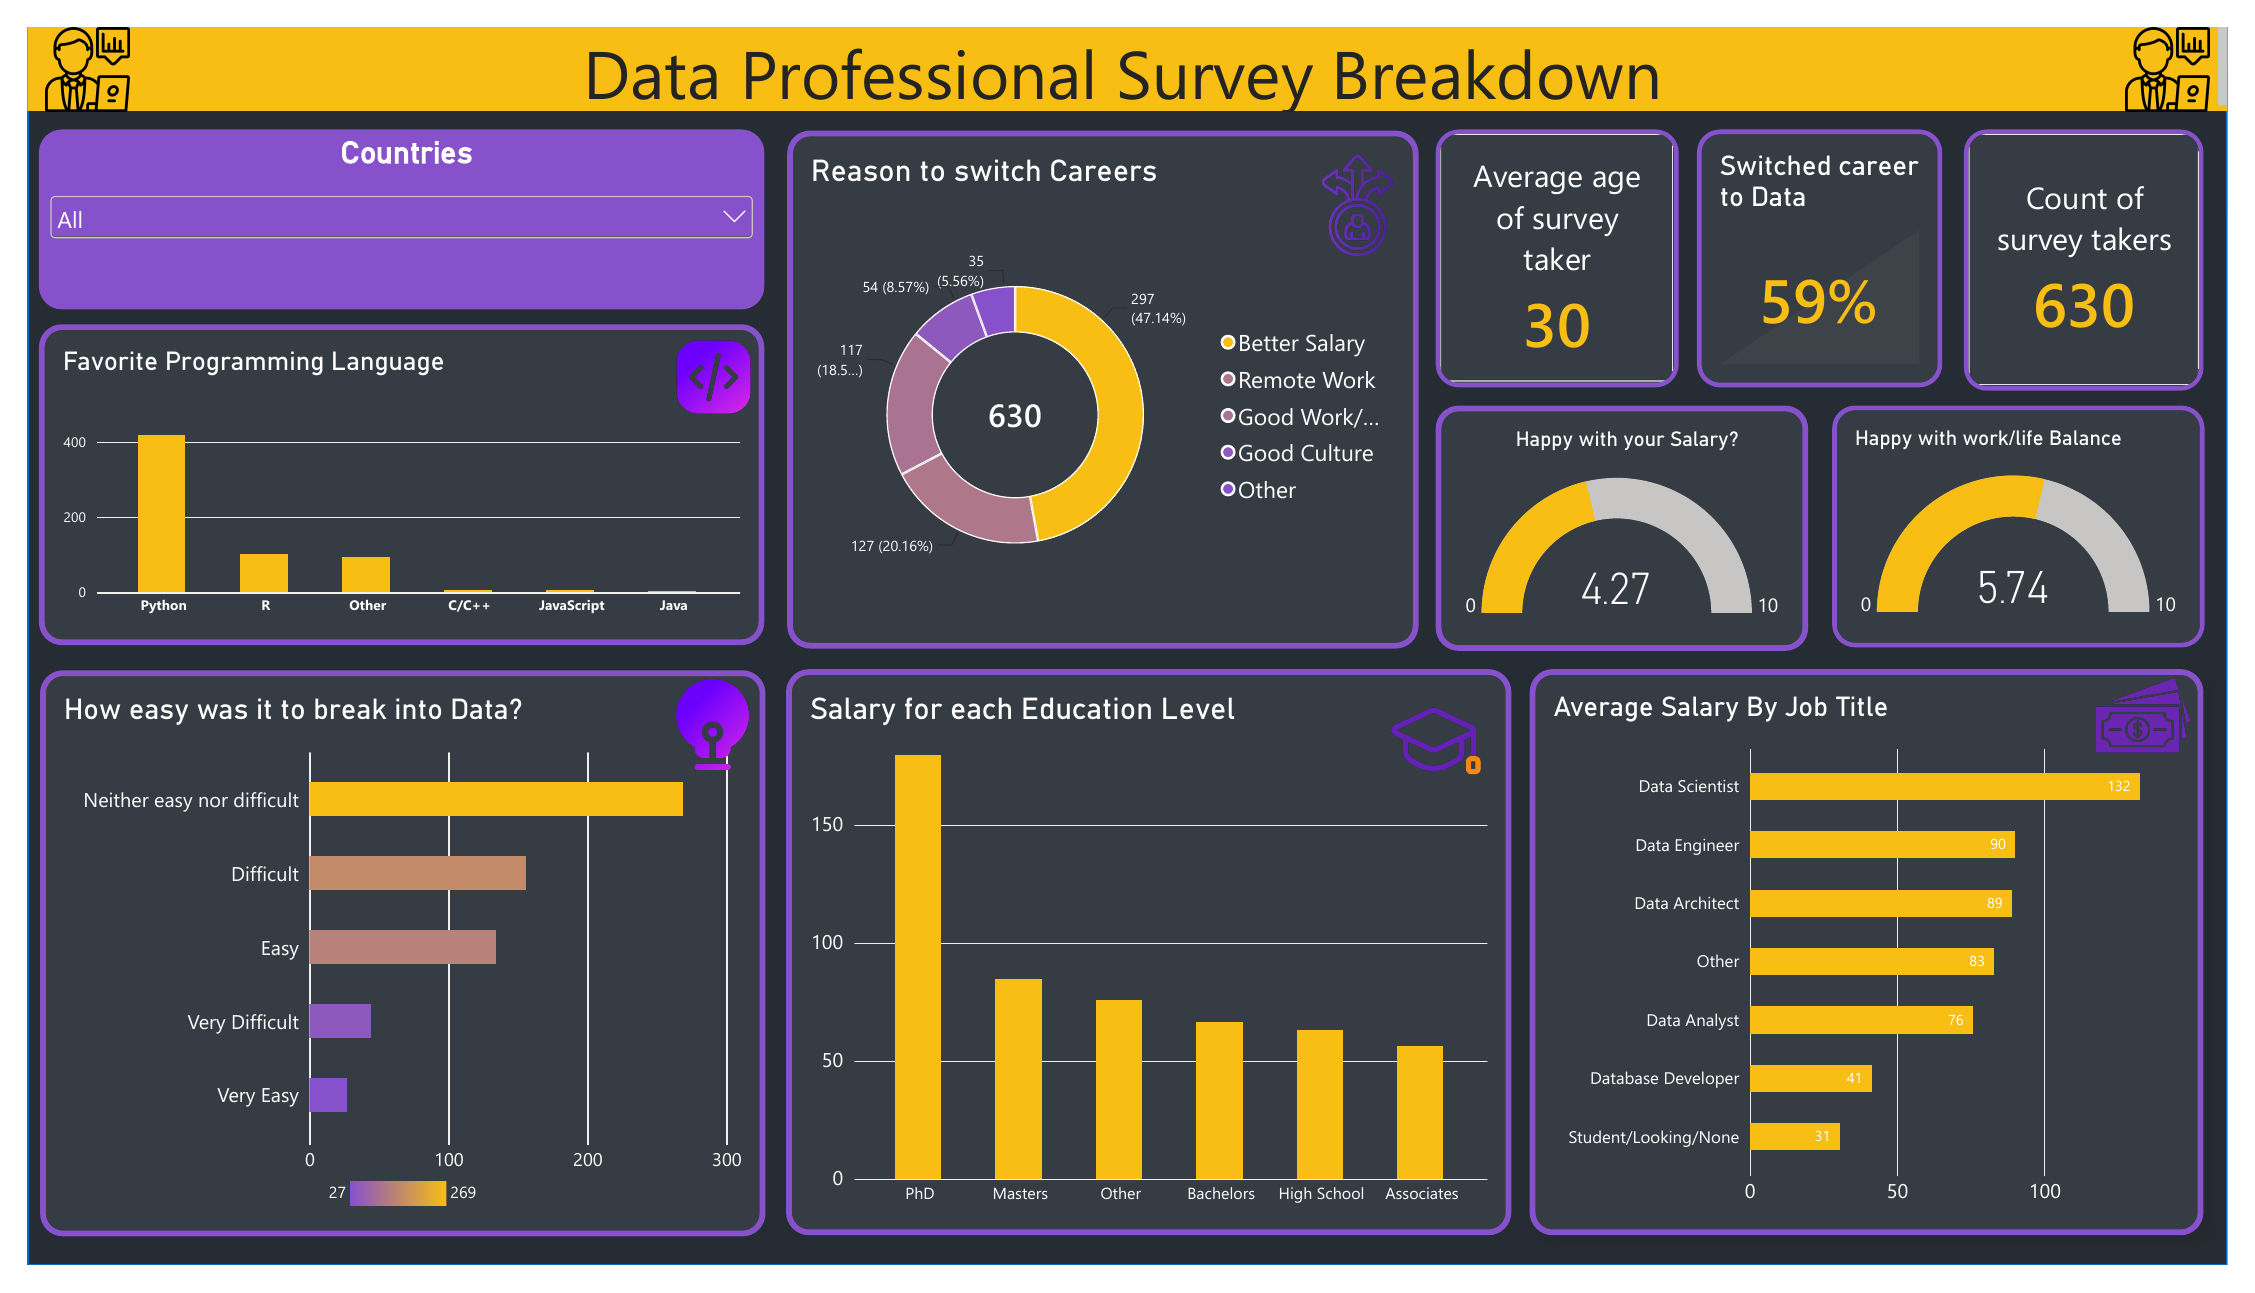

The page's visual inventory and layout, read from the dashboard file:
{"tool":"powerbi","page":{"name":"Page 1","canvas":[1920,1080],"ordinal":0},"visuals":[{"type":"shape","box":[0,0,1920,1080],"z":0},{"type":"textbox","box":[0,0,1920,73.2],"z":1000},{"type":"cardVisual","fields":{"Data":["Count(Data Professional Survey.Unique ID)"]},"box":[1689.8,88.9,209.3,227.6],"z":2000},{"type":"kpi","title":"Switched career to Data","fields":{"Indicator":["Count(Data Professional Survey.Unique ID)"],"TrendLine":["Data Professional Survey.Q2 - Did you switch careers into Data?"]},"box":[1457,88.9,214.5,225],"z":3000},{"type":"clusteredBarChart","title":"Average Salary By Job Title","fields":{"Category":["Data Professional Survey.Q1 - Which Title Best Fits your Current Role?.1"],"Y":["Avg(Data Professional Survey.Average Salary)"]},"box":[1310.5,559.8,588.6,494.4],"z":4000},{"type":"columnChart","title":"Favorite Programming Language","fields":{"Category":["Data Professional Survey.Q5 - Favorite Programming Language.1"],"Y":["CountNonNull(Data Professional Survey.Unique ID)"]},"box":[10.5,259,633,280],"z":5000},{"type":"gauge","title":"Happy with work/life Balance","fields":{"MaxValue":["Max(Data Professional Survey.Q6 - How Happy are you in your Current Position with the following? (Work/Life Balance))2"],"MinValue":["Min(Data Professional Survey.Q6 - How Happy are you in your Current Position with the following? (Work/Life Balance))1"],"Y":["Avg(Data Professional Survey.Q6 - How Happy are you in your Current Position with the following? (Work/Life Balance))"]},"box":[1574.7,329.6,325,211.9],"z":6000},{"type":"gauge","title":"Happy with your Salary?","fields":{"MaxValue":["Max(Data Professional Survey.Q6 - How Happy are you in your Current Position with the following? (Salary))"],"MinValue":["Min(Data Professional Survey.Q6 - How Happy are you in your Current Position with the following? (Salary))"],"Y":["Avg(Data Professional Survey.Q6 - How Happy are you in your Current Position with the following? (Salary))"]},"box":[1229.4,329.6,325,214.5],"z":7000},{"type":"clusteredBarChart","title":"How easy was it to break into Data?","fields":{"Category":["Data Professional Survey.Q7 - How difficult was it for you to break into Data?"],"Y":["CountNonNull(Data Professional Survey.Unique ID)"]},"box":[10.9,560.7,633,494.4],"z":8000},{"type":"slicer","title":"  Countries","fields":{"Values":["Data Professional Survey.Q11 - Which Country do you live in?.1"]},"box":[10.5,88.9,633,156.9],"z":9000},{"type":"columnChart","title":"Salary for each Education Level","fields":{"Category":["Data Professional Survey.Q12 - Highest Level of Education"],"Y":["Avg(Data Professional Survey.Average Salary)"]},"box":[661.8,559.8,633,494.4],"z":10000},{"type":"cardVisual","fields":{"Data":["Avg(Data Professional Survey.Q10 - Current Age)"]},"box":[1229.4,88.9,211.9,225],"z":11000},{"type":"donutChart","title":"Reason to switch Careers","fields":{"Category":["Data Professional Survey.Q8 - If you were to look for a new job today, what would be the most important t"],"Y":["Count(Data Professional Survey.Unique ID)"]},"box":[662.9,90,551,452.2],"z":12000},{"type":"image","box":[1815.4,0,104.6,73.2],"z":13000},{"type":"image","box":[1177.1,580.7,105.4,83.4],"z":14000},{"type":"image","box":[0,0,104.6,73.2],"z":15000},{"type":"image","box":[1106.5,112.5,107.2,86.3],"z":16000},{"type":"image","box":[551.9,566,91.6,83.7],"z":17000},{"type":"image","box":[1794.4,559.8,104.7,80.7],"z":18000},{"type":"image","box":[565,259,68,91.6],"z":19000}]}

Visuals, with their boxes in screenshot pixels (x1, y1, x2, y2), scaled from the page's 1920x1080 canvas onto the 2255x1293 screenshot:
shape: locate(0, 0, 2254, 1292)
textbox: locate(0, 0, 2254, 88)
cardVisual - Count(Data Professional Survey.Unique ID): locate(1985, 106, 2230, 379)
"Switched career to Data" kpi: locate(1711, 106, 1963, 376)
"Average Salary By Job Title" clusteredBarChart: locate(1539, 670, 2230, 1262)
"Favorite Programming Language" columnChart: locate(12, 310, 756, 645)
"Happy with work/life Balance" gauge: locate(1849, 395, 2231, 648)
"Happy with your Salary?" gauge: locate(1444, 395, 1826, 651)
"How easy was it to break into Data?" clusteredBarChart: locate(13, 671, 756, 1263)
"  Countries" slicer: locate(12, 106, 756, 294)
"Salary for each Education Level" columnChart: locate(777, 670, 1521, 1262)
cardVisual - Avg(Data Professional Survey.Q10 - Current Age): locate(1444, 106, 1693, 376)
"Reason to switch Careers" donutChart: locate(779, 108, 1426, 649)
image: locate(2132, 0, 2254, 88)
image: locate(1382, 695, 1506, 795)
image: locate(0, 0, 123, 88)
image: locate(1300, 135, 1425, 238)
image: locate(648, 678, 756, 778)
image: locate(2107, 670, 2230, 767)
image: locate(664, 310, 743, 420)
